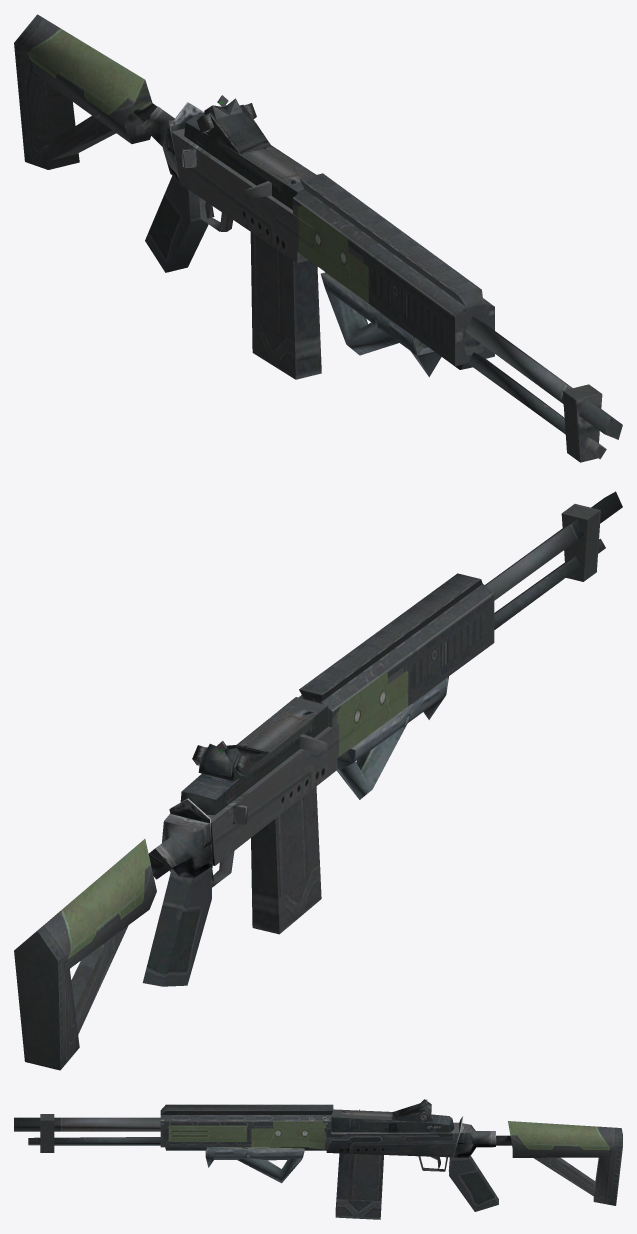
File: Assault_Rifle_bq_qs_01_lod2_Body_LOD_(000810).glb
The picture shows the model from 3 angles, top to bottom: view 1: azimuth 30°, elevation 25°; view 2: azimuth 150°, elevation 25°; view 3: azimuth 270°, elevation 25°; orthographic projection. The views are drawn at different scales.
Visible parts, largest first — view 1: bq_qs_01_lod2; view 2: bq_qs_01_lod2; view 3: bq_qs_01_lod2.
Part boxes in pixels (x1,y1,x2,y2): bq_qs_01_lod2: (14,14,622,462); bq_qs_01_lod2: (14,491,622,1070); bq_qs_01_lod2: (14,1099,622,1219).
Size of the model in its own units: 0.0914 by 0.283 by 1.34.
1 material, 1 textured.
